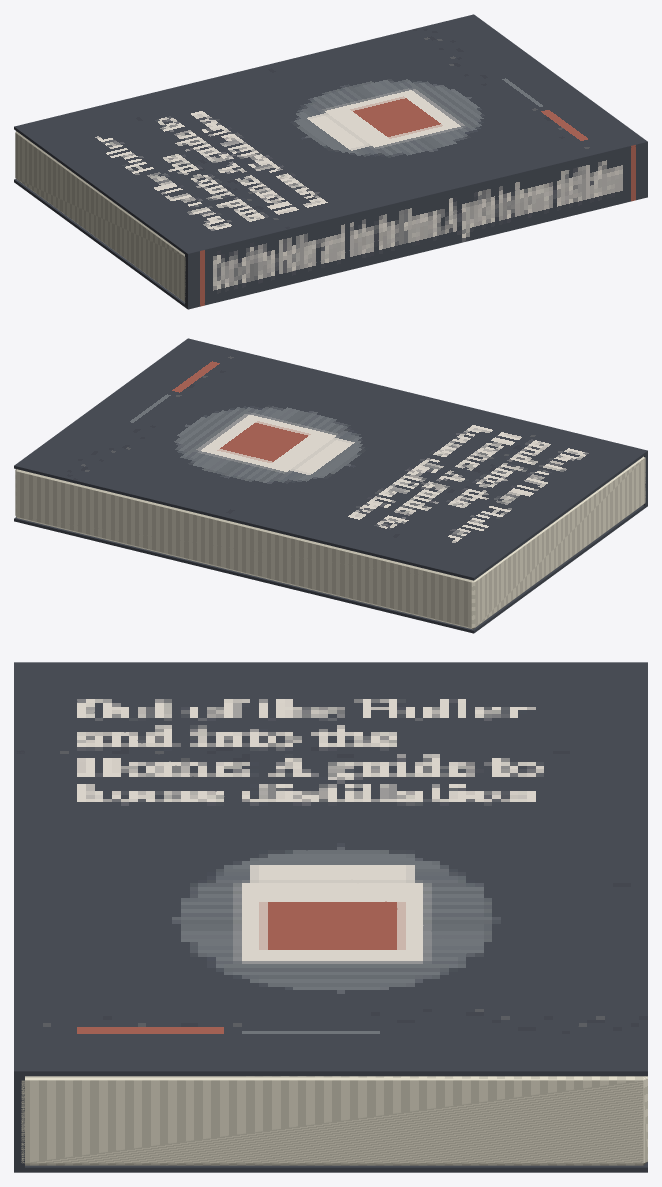
The model's file is distilling_cookbook.glb.
3 renders of one model, top to bottom at view 1: azimuth 30°, elevation 25°; view 2: azimuth 150°, elevation 25°; view 3: azimuth 270°, elevation 25°, orthographic. The views are drawn at different scales.
Parts seen in each view (by area): view 1: block_front, block_spine, block_pages, block_back; view 2: block_front, block_pages, block_back, block_spine; view 3: block_front, block_pages, block_back, block_spine.
Boxes of the visible parts, x1=… form: block_front: x1=14, y1=14, x2=644, y2=254; block_spine: x1=185, y1=139, x2=647, y2=309; block_pages: x1=15, y1=131, x2=185, y2=302; block_back: x1=14, y1=179, x2=185, y2=306; block_front: x1=14, y1=339, x2=647, y2=580; block_pages: x1=15, y1=456, x2=645, y2=629; block_back: x1=14, y1=504, x2=647, y2=633; block_spine: x1=185, y1=338, x2=647, y2=506; block_front: x1=16, y1=662, x2=647, y2=1076; block_pages: x1=21, y1=1076, x2=647, y2=1165; block_back: x1=16, y1=1162, x2=647, y2=1172; block_spine: x1=14, y1=662, x2=24, y2=1172.
Bounding box in the file's own units: 0.2105 × 0.0243 × 0.1379.
Materials: 1 (1 with a texture image).
